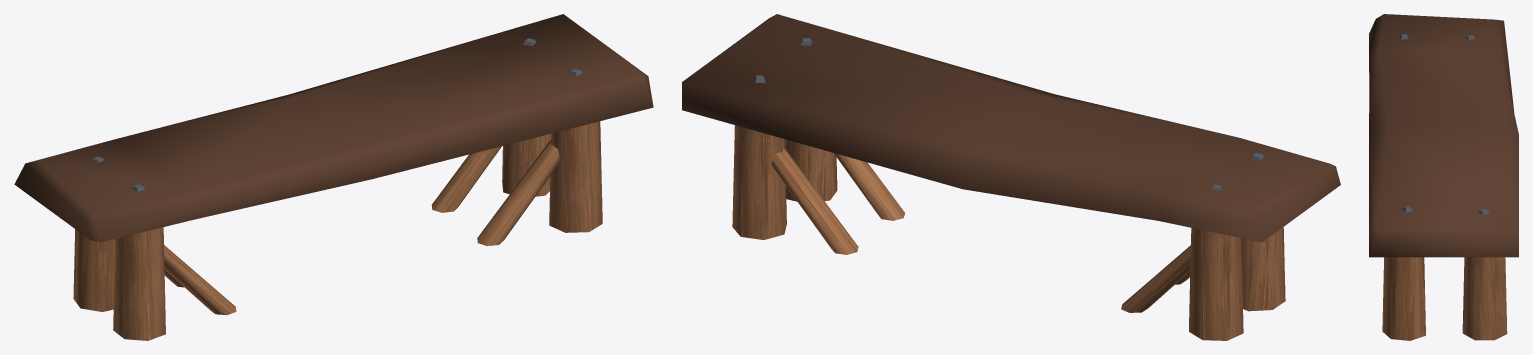
File: Bench_1.fbx
3 views of the same model, side by side, from view 1: azimuth 30°, elevation 25°; view 2: azimuth 150°, elevation 25°; view 3: azimuth 270°, elevation 25° (orthographic). The views are drawn at different scales.
Visible parts, largest first — view 1: Bench_1; view 2: Bench_1; view 3: Bench_1.
Boxes of the visible parts, x1=… form: Bench_1: x1=14, y1=14, x2=653, y2=340; Bench_1: x1=682, y1=14, x2=1340, y2=340; Bench_1: x1=1369, y1=14, x2=1518, y2=340.
Size of the model in its own units: 2.04 by 0.5247 by 0.5715.
